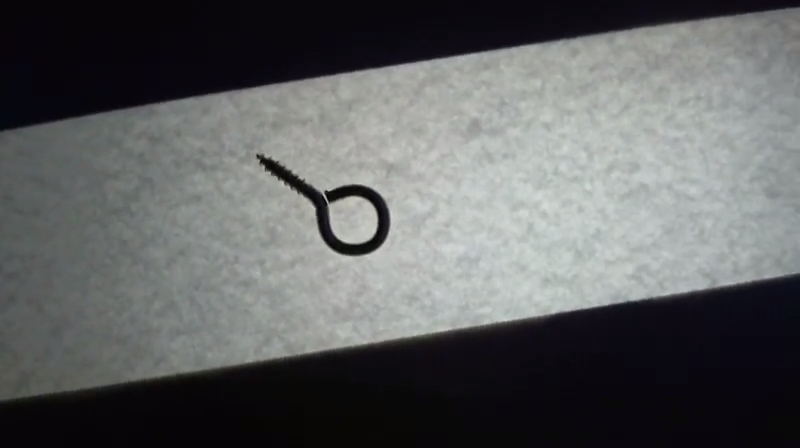O001: (254, 146, 393, 259)
